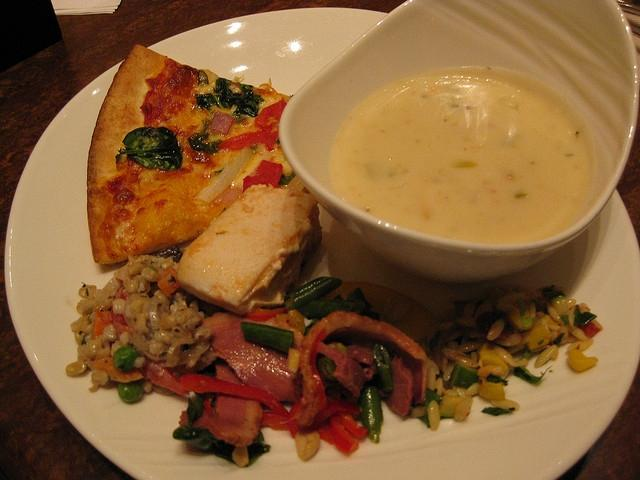onion: (193, 147, 255, 204), (286, 176, 304, 190)
pea: (240, 322, 294, 355), (114, 345, 140, 372), (117, 380, 144, 403)
